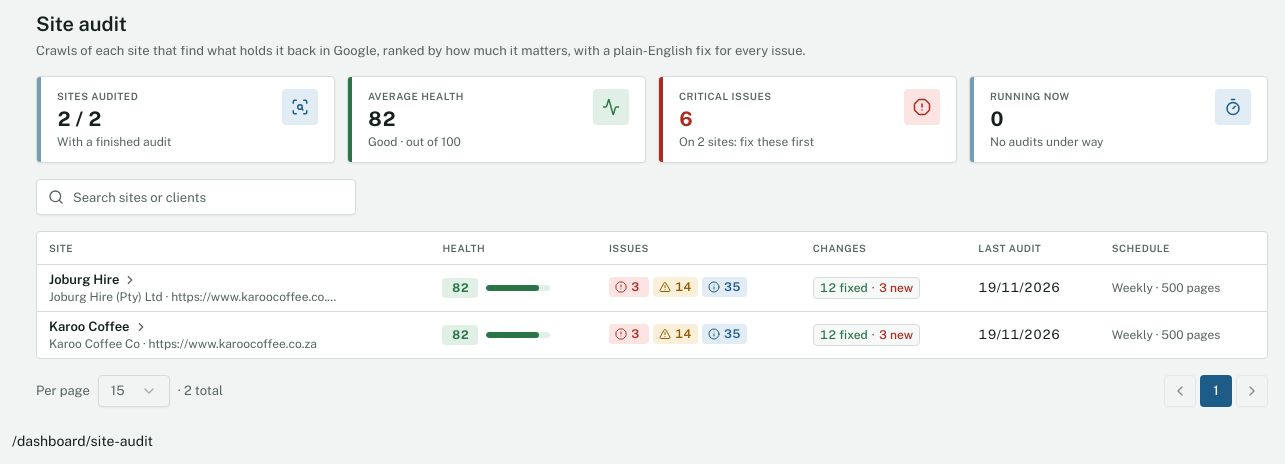
SiteAuditPage (overview) › filters by site or client
The image size is (1285, 464).
Step 1. Type "pty" into the search field labelled "Search sites or clients" → point(196, 197), box [36, 179, 356, 215]
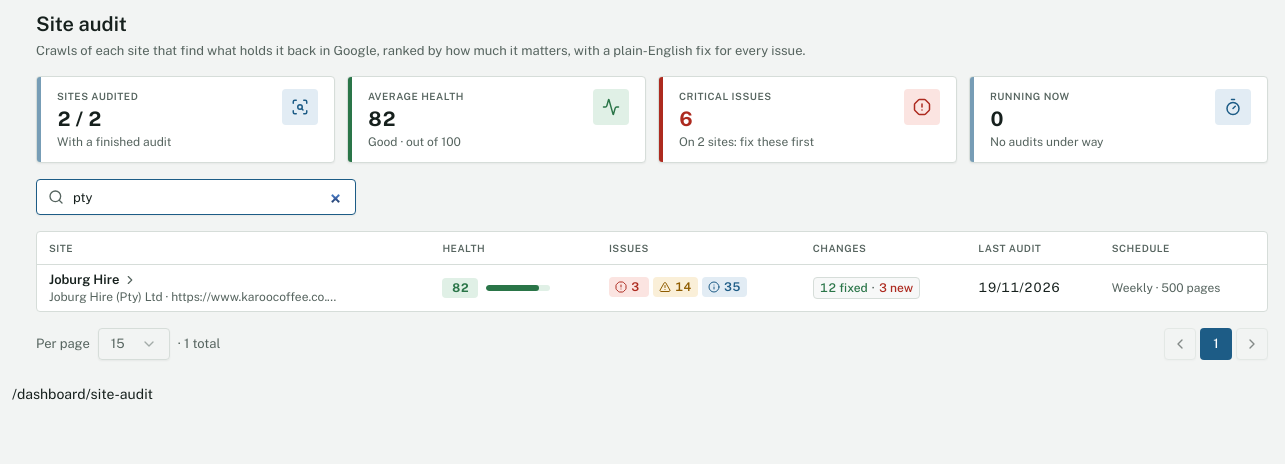
Expected: the text "Joburg Hire" is shown, [49, 270, 119, 288]
Now the button "Karoo Coffee" is gone
Step 2. Type "zzz" into the search field named "Search sites or clients" → point(196, 197), box [36, 179, 356, 215]
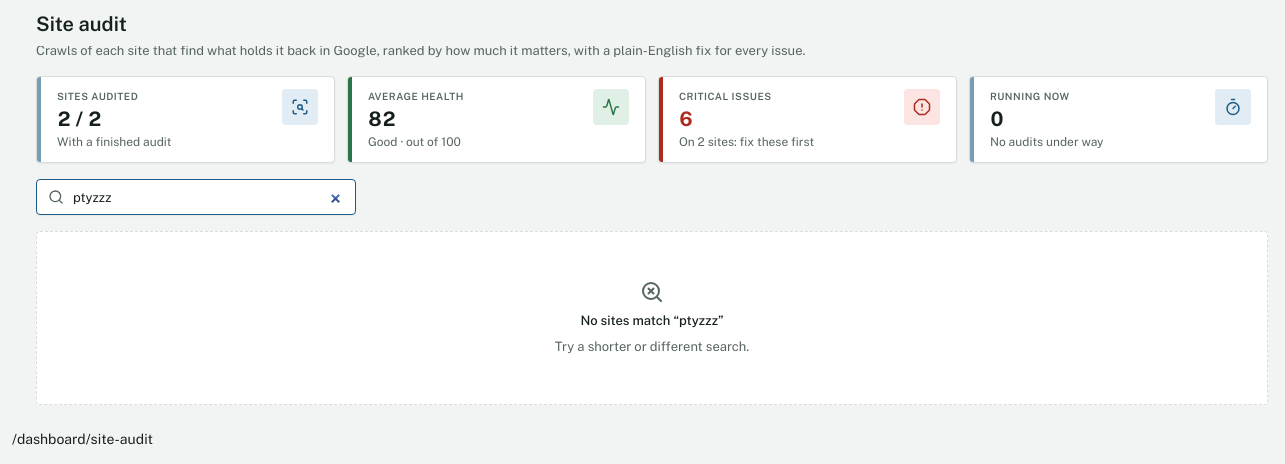
Now the text "No sites match “ptyzzz”" is shown, box [580, 312, 724, 330]
